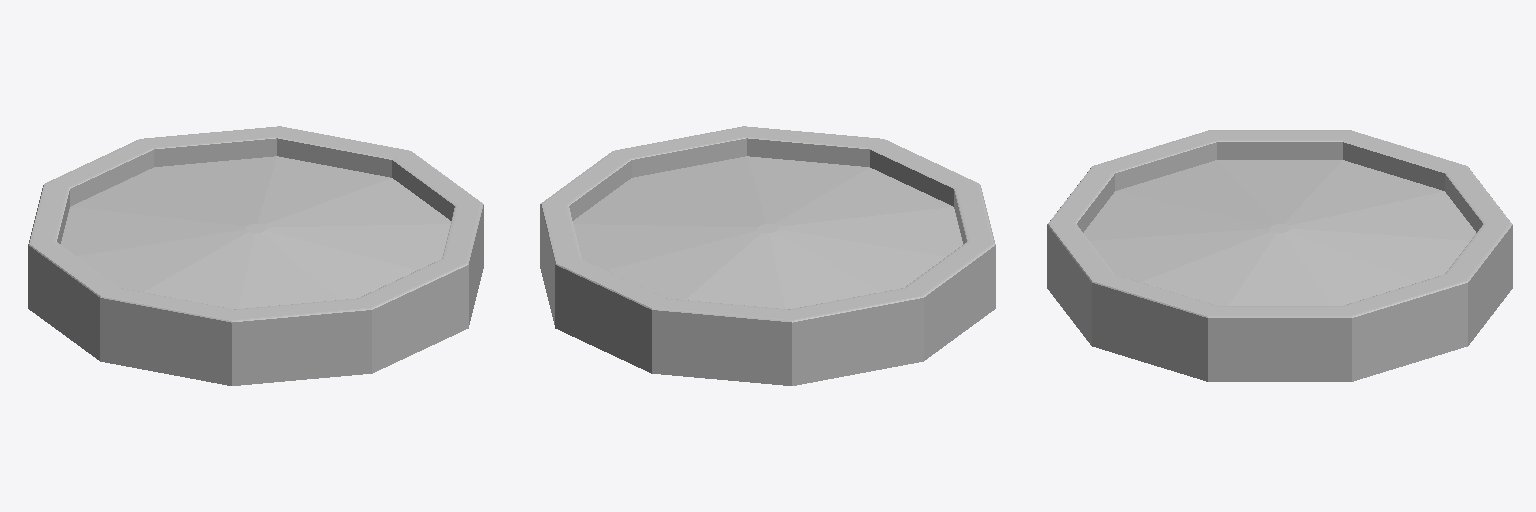
Rendered from Ecran.obj.
The picture shows the model from 3 angles: view 1: azimuth 30°, elevation 25°; view 2: azimuth 150°, elevation 25°; view 3: azimuth 270°, elevation 25°; orthographic projection.
Visible parts, largest first — view 1: Tel.001; view 2: Tel.001; view 3: Tel.001.
Part boxes in pixels (x1,y1,x2,y2): Tel.001: (28, 126, 483, 385); Tel.001: (540, 126, 995, 385); Tel.001: (1047, 130, 1512, 381).
Bounding box in the file's own units: 0.2875 × 0.0465 × 0.3023.